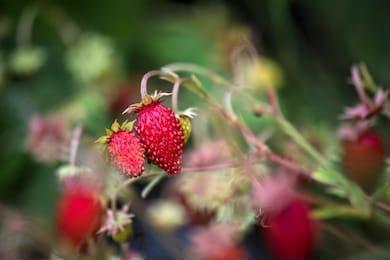Fresa: (131, 92, 194, 179)
